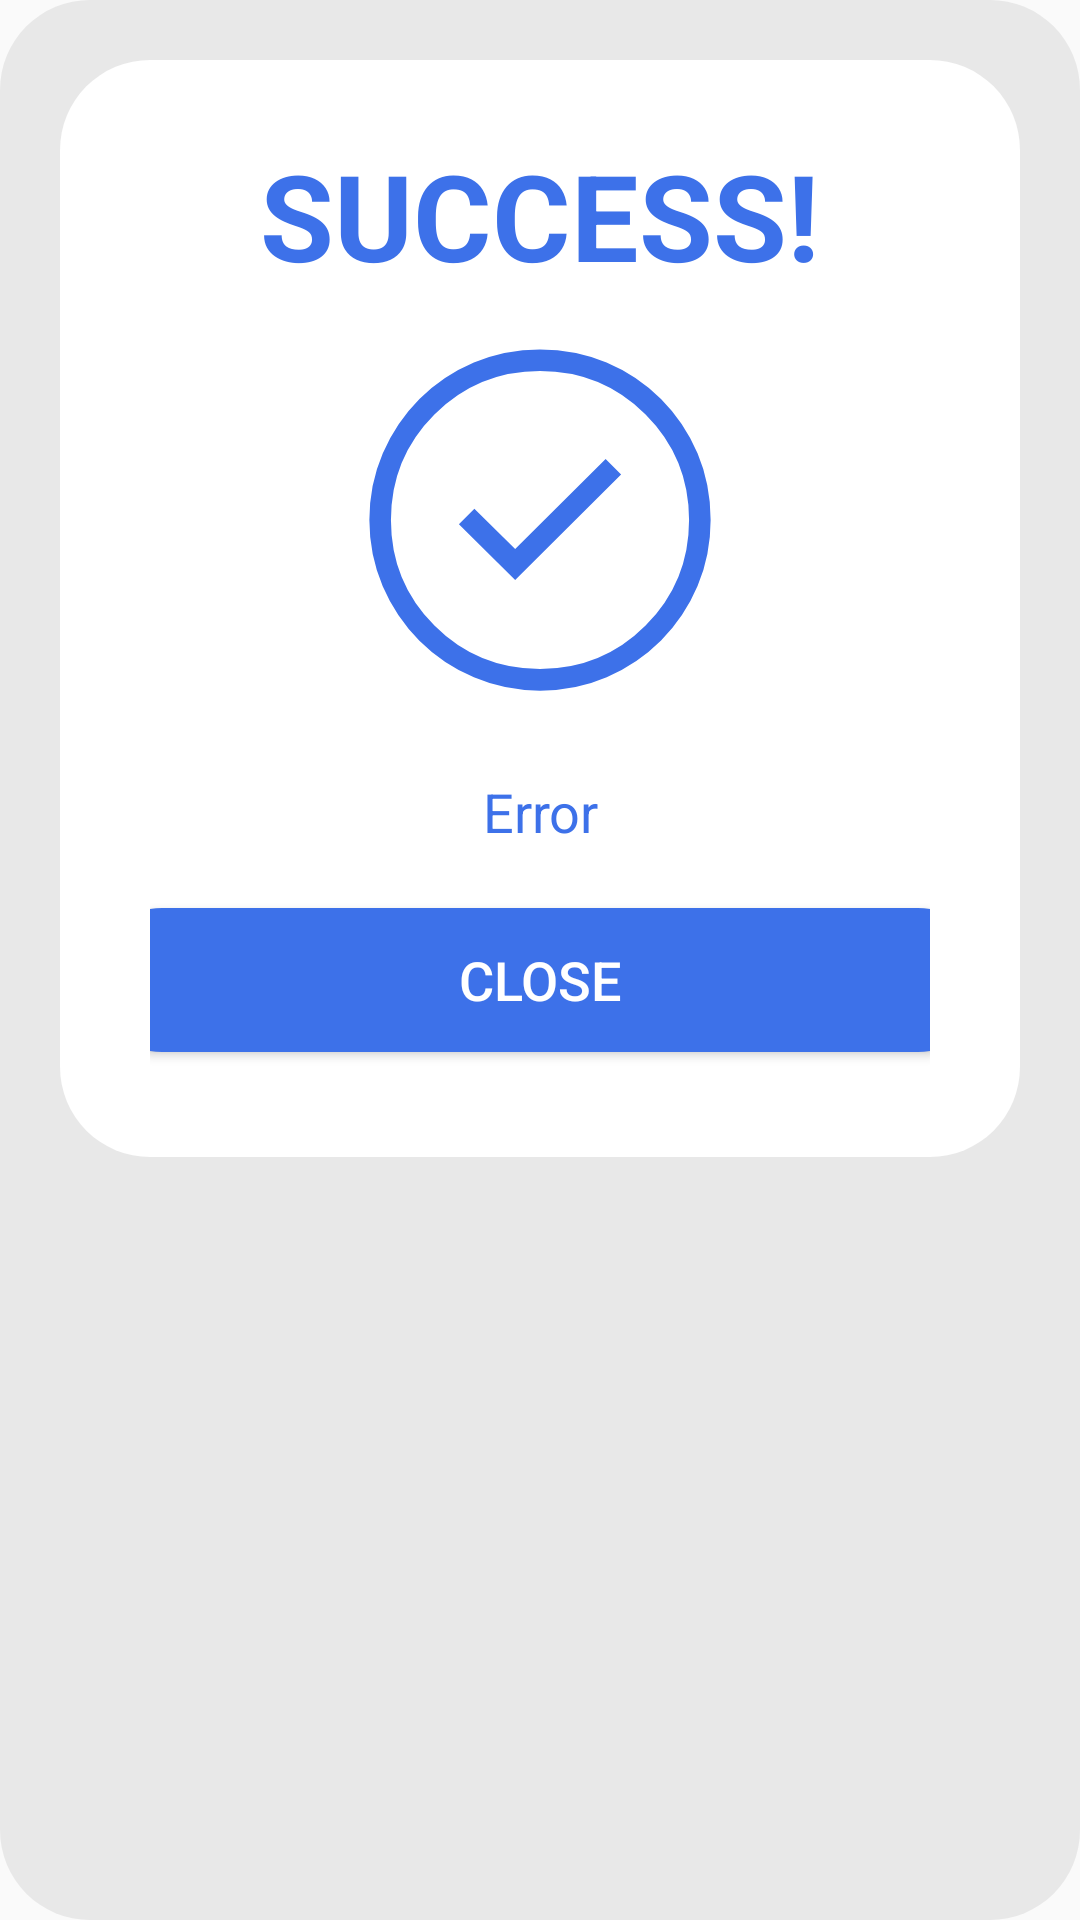

Screen size 1080*1920. Icon name, then its box in pixels as (x1, y1, x2, y2):
check: (369, 349, 711, 691)
